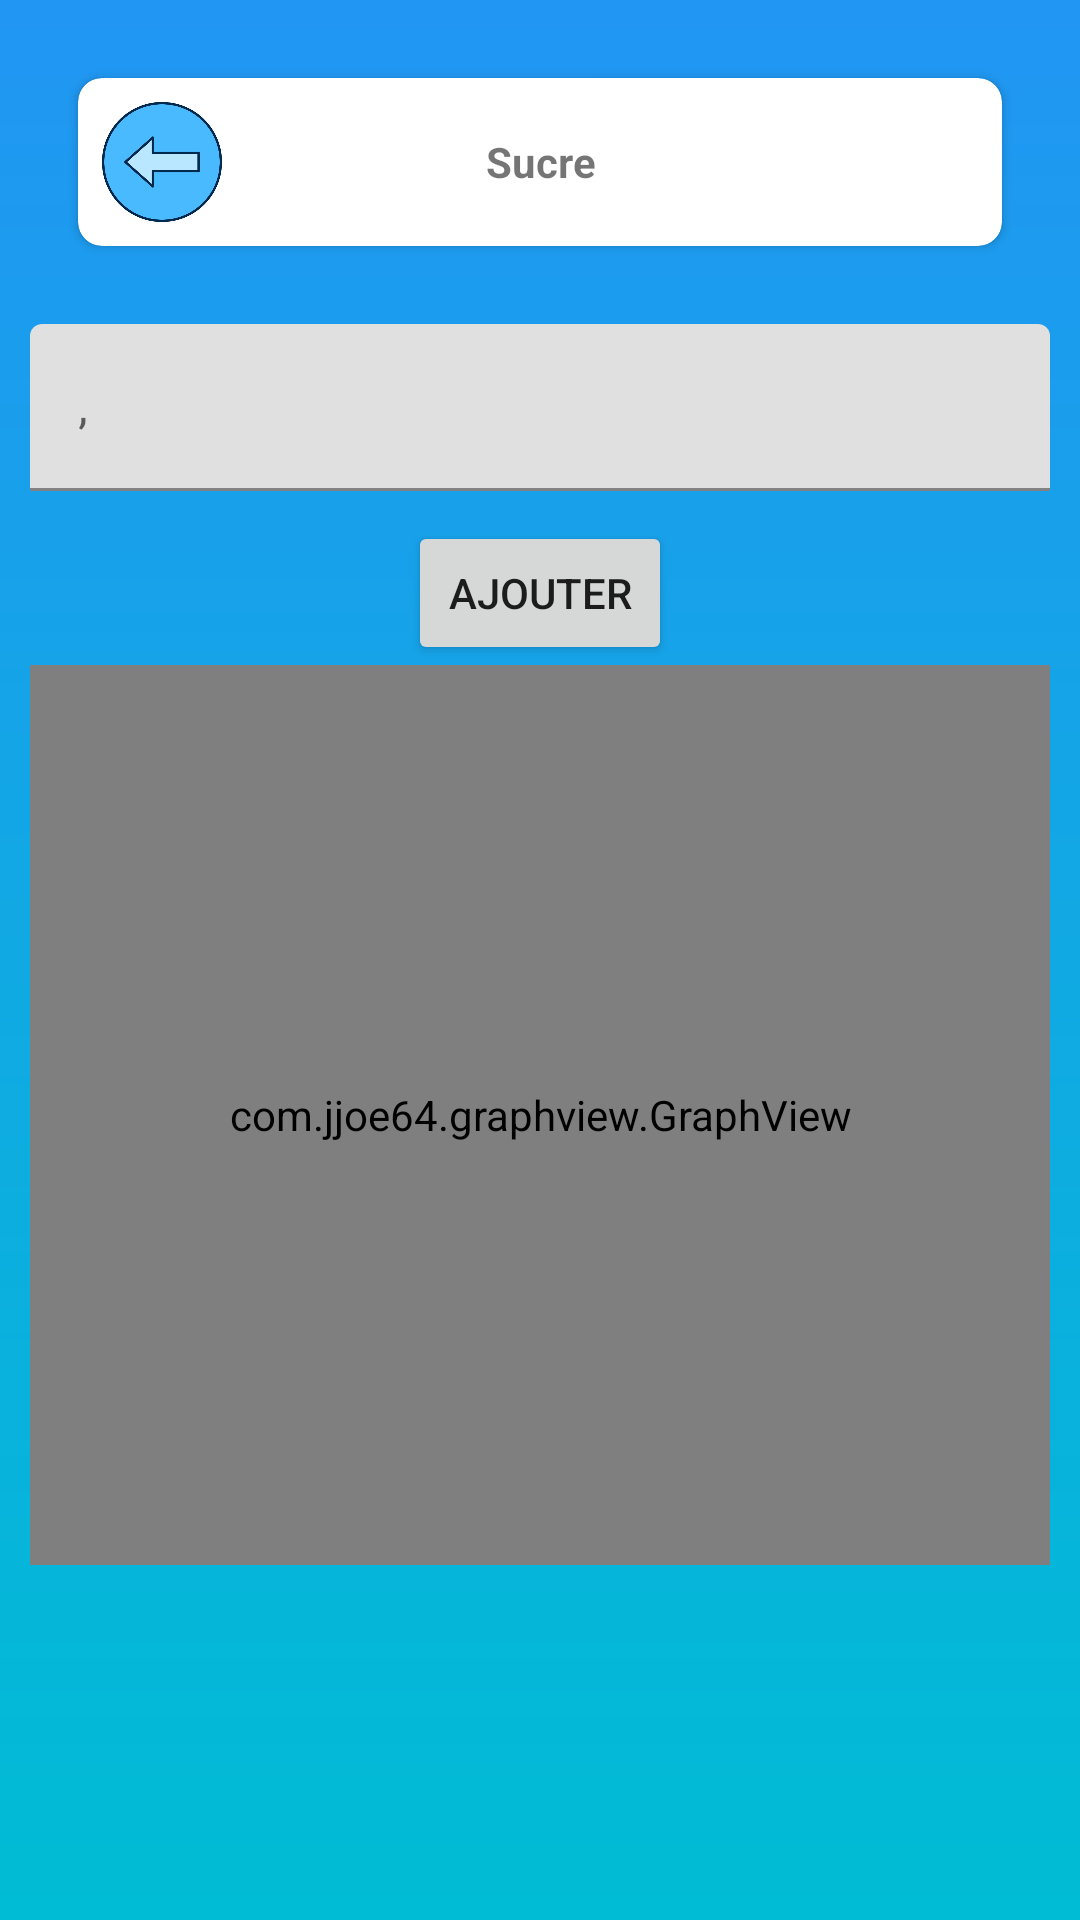

Icon bounding boxes for this 1080px×1920px phone screenshot, format Rect(x1, y1, x2, y2):
left arrow: Rect(102, 102, 222, 222)
